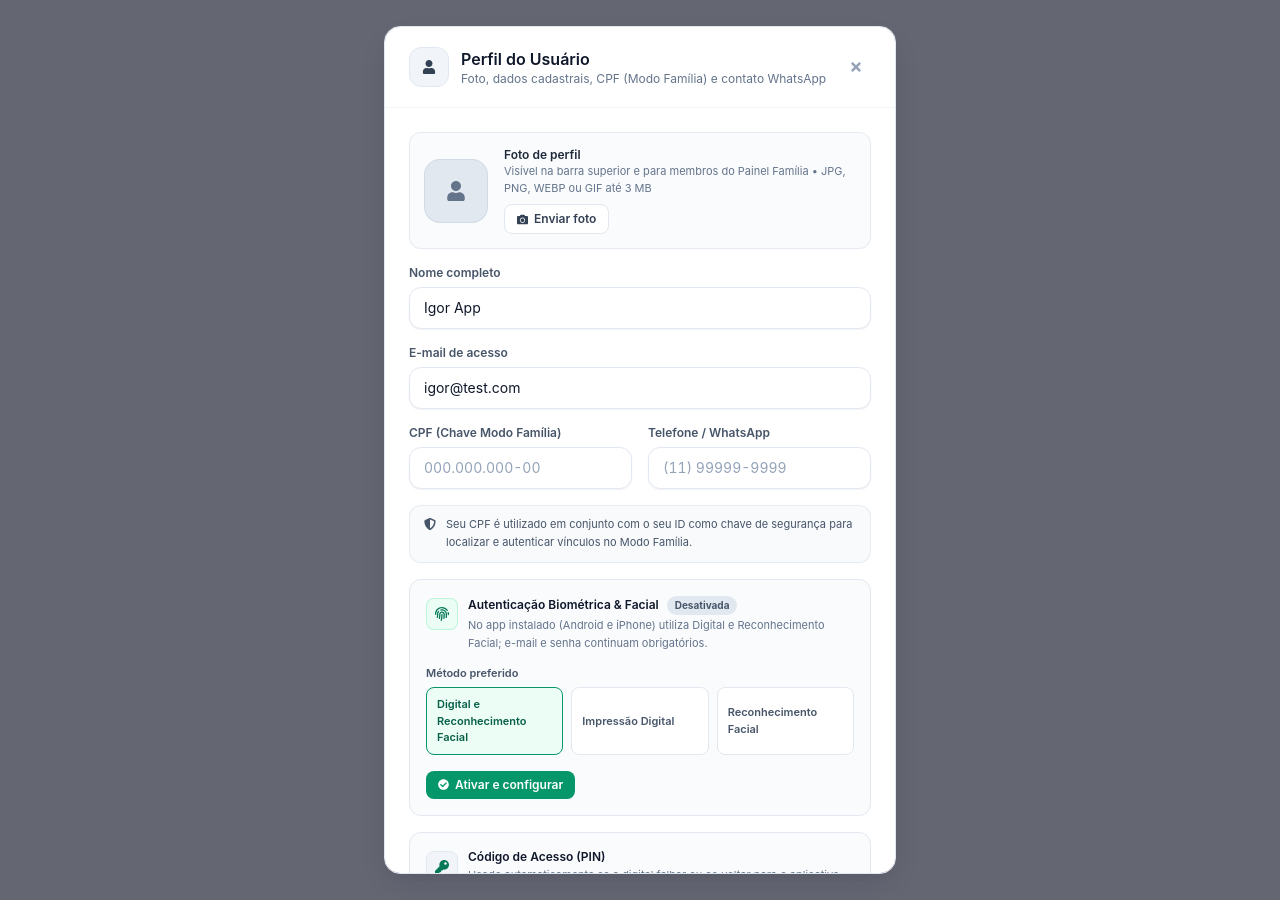
Test: Biometric Settings, Platform Login & Due-Date Notifications › allows activating, configuring Digital/Facial on installed app, disabling, and removing biometric auth in UserEditModal
Later steps or results of the test are not shown.
Expected: the element with test id "biometric-settings-section" shows "Digital e Reconhecimento Facial", [426, 687, 563, 754]
Click the button with test id "biometric-activate-btn" at point(501, 784), box [426, 770, 575, 798]
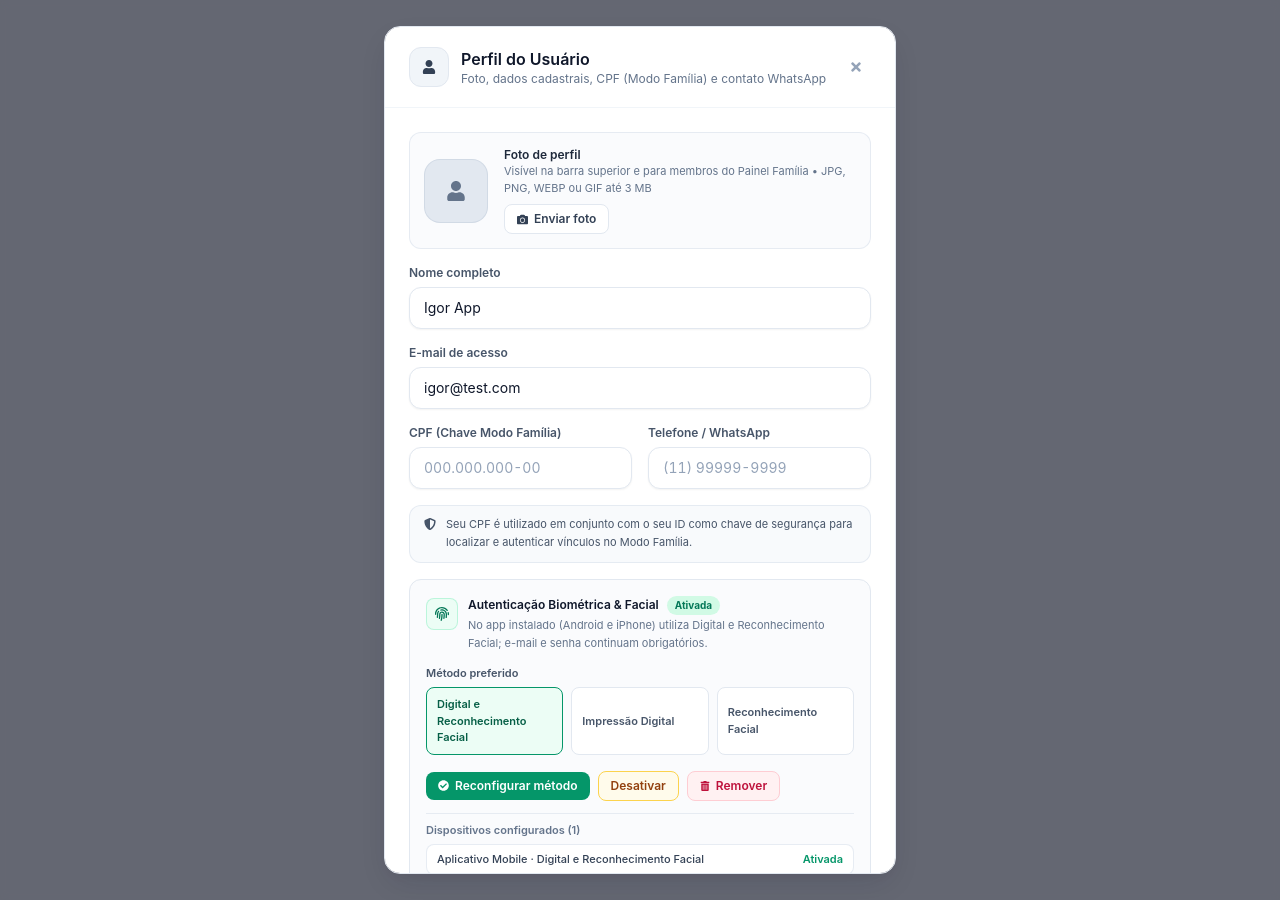
Result: the button with test id "biometric-toggle-btn" reads "Desativar"
Click the button with test id "biometric-toggle-btn" at point(638, 786), box [598, 770, 679, 800]
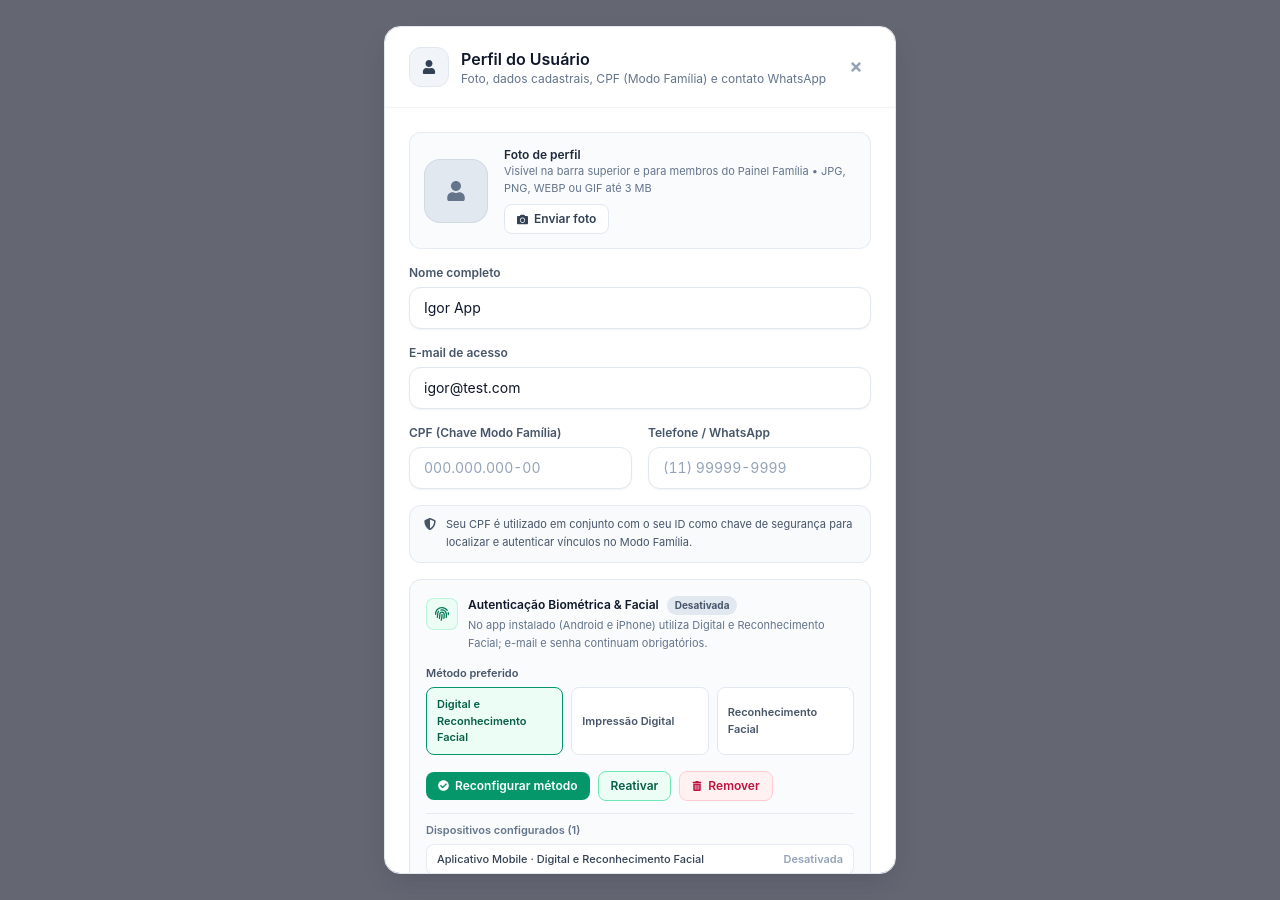
Result: the button with test id "biometric-remove-btn" is enabled at [679, 770, 773, 800]
Result: the button with test id "biometric-toggle-btn" reads "Reativar" at [598, 770, 671, 800]
